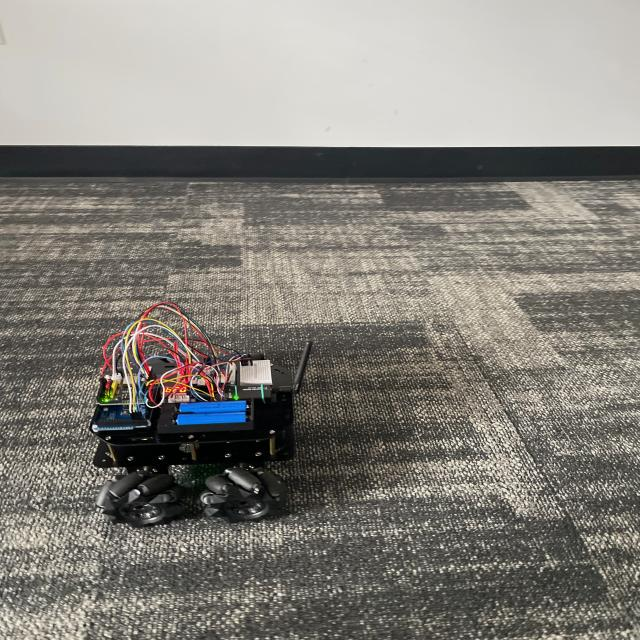ArduinoCar: (80, 300, 315, 529)
